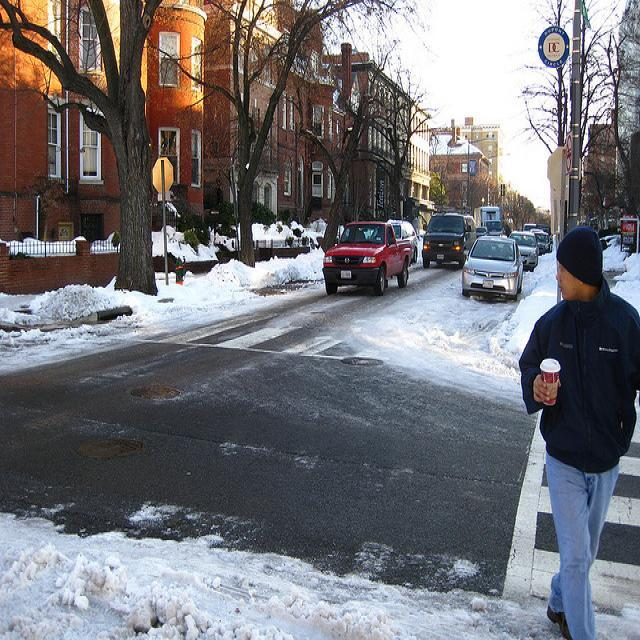fire_hydrant: (175, 256, 183, 287)
